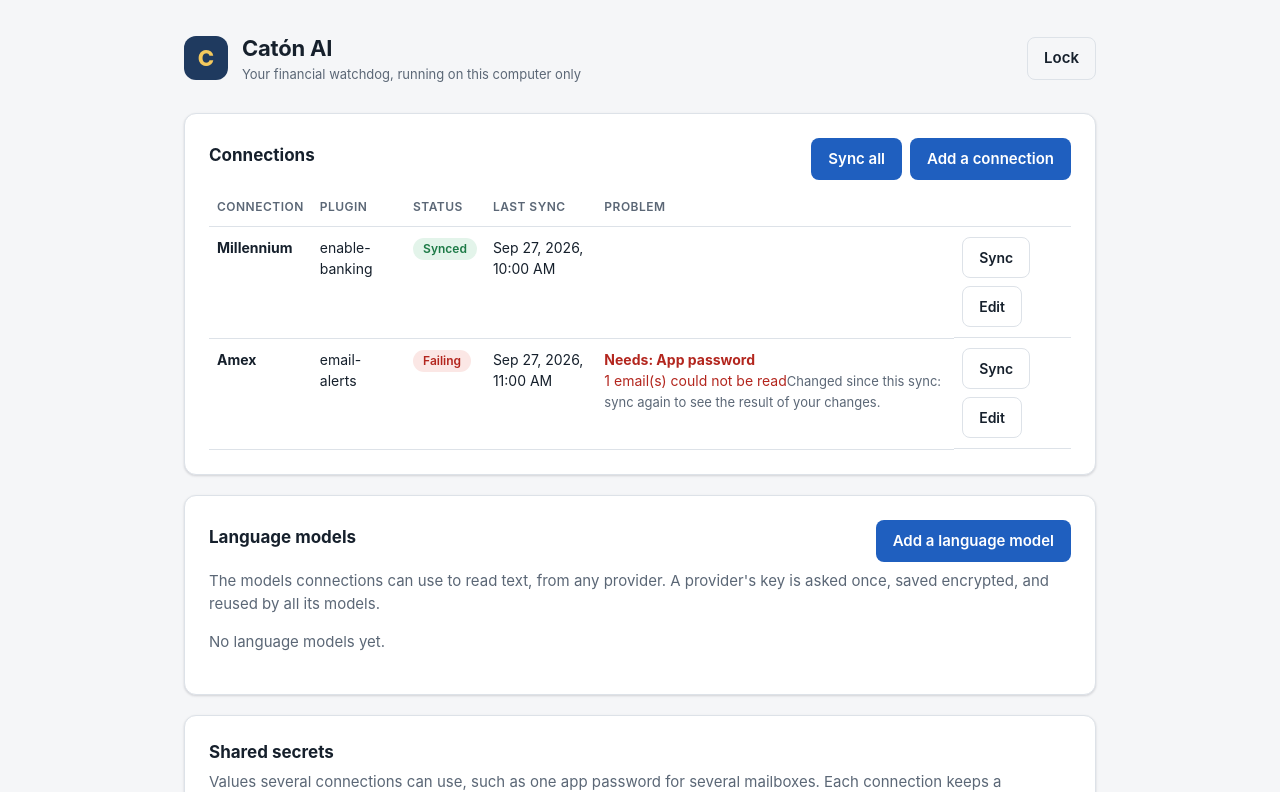
it: editing a connection saved before a variable existed › shows the new variable at its default
This screenshot has width=1280, height=792.
Click the button with aria-label "Edit Amex".
click(992, 418)  # box [962, 397, 1022, 438]
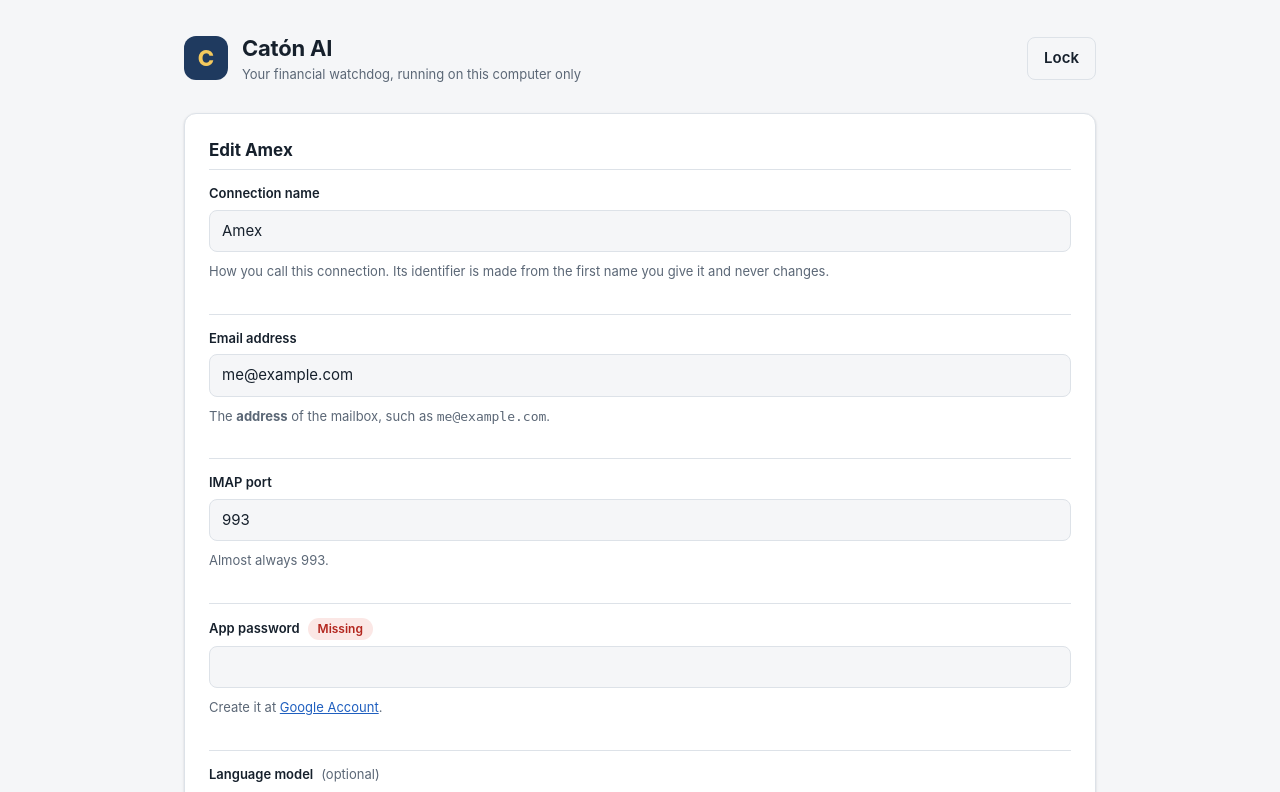
Expected: the field labelled "IMAP port" holds "993", [209, 498, 1071, 541]
